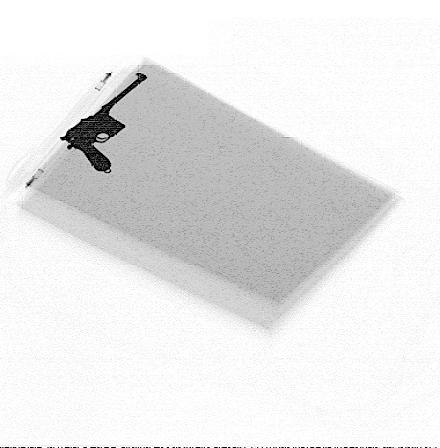Gun: (59, 72, 148, 171)
